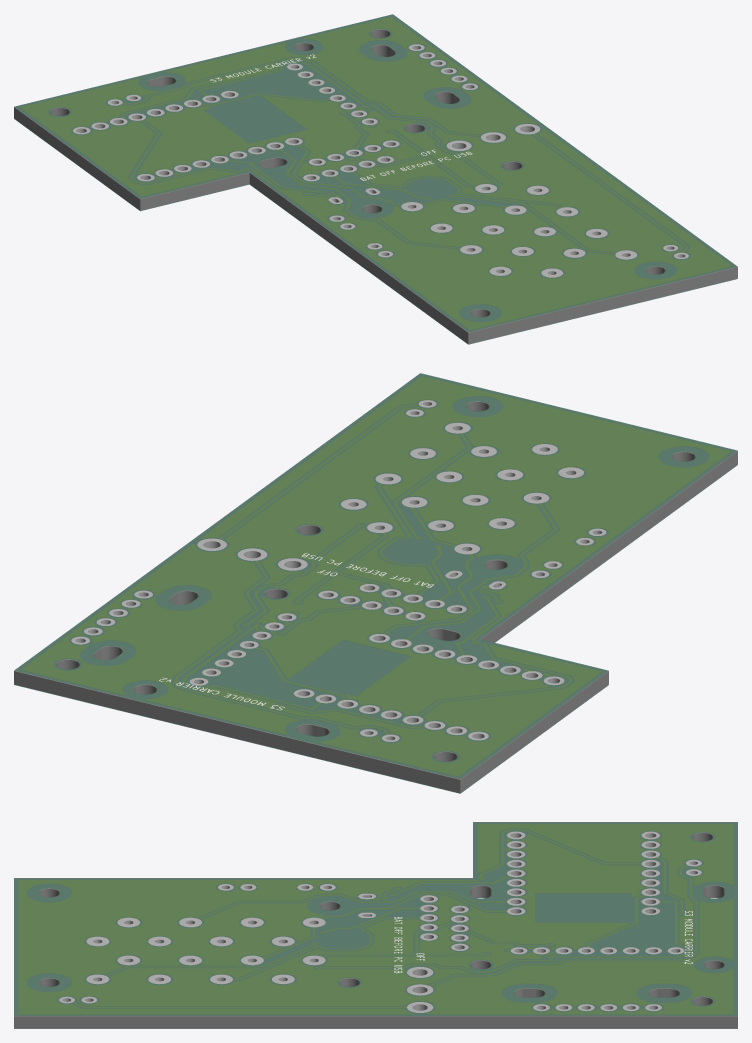
Rendered from preview-regular-mount.glb.
The picture shows the model from 3 angles, top to bottom: view 1: azimuth 30°, elevation 25°; view 2: azimuth 150°, elevation 25°; view 3: azimuth 270°, elevation 25°; orthographic projection. The views are drawn at different scales.
Parts seen in each view (by area): view 1: =>[0:1:1:6], =>[0:1:1:2], =>[0:1:1:8], =>[0:1:1:3], =>[0:1:1:7]; view 2: =>[0:1:1:6], =>[0:1:1:2], =>[0:1:1:8], =>[0:1:1:3], =>[0:1:1:7]; view 3: =>[0:1:1:6], =>[0:1:1:2], =>[0:1:1:8], =>[0:1:1:3], =>[0:1:1:7], =>[0:1:1:5].
Part boxes in pixels (<box>): =>[0:1:1:6]: <box>14,14,737,332</box>; =>[0:1:1:2]: <box>21,17,730,329</box>; =>[0:1:1:8]: <box>14,15,737,344</box>; =>[0:1:1:3]: <box>73,44,688,277</box>; =>[0:1:1:7]: <box>14,119,736,344</box>; =>[0:1:1:6]: <box>14,373,737,779</box>; =>[0:1:1:2]: <box>22,377,729,775</box>; =>[0:1:1:8]: <box>14,374,737,793</box>; =>[0:1:1:3]: <box>71,400,606,741</box>; =>[0:1:1:7]: <box>14,465,737,793</box>; =>[0:1:1:6]: <box>14,822,737,1015</box>; =>[0:1:1:2]: <box>19,824,732,1013</box>; =>[0:1:1:8]: <box>14,823,737,1028</box>; =>[0:1:1:3]: <box>59,831,701,1012</box>; =>[0:1:1:7]: <box>14,897,737,1028</box>; =>[0:1:1:5]: <box>394,911,692,973</box>.
Bounding box in the file's own units: 0.052 × 0.00163 × 0.082.
